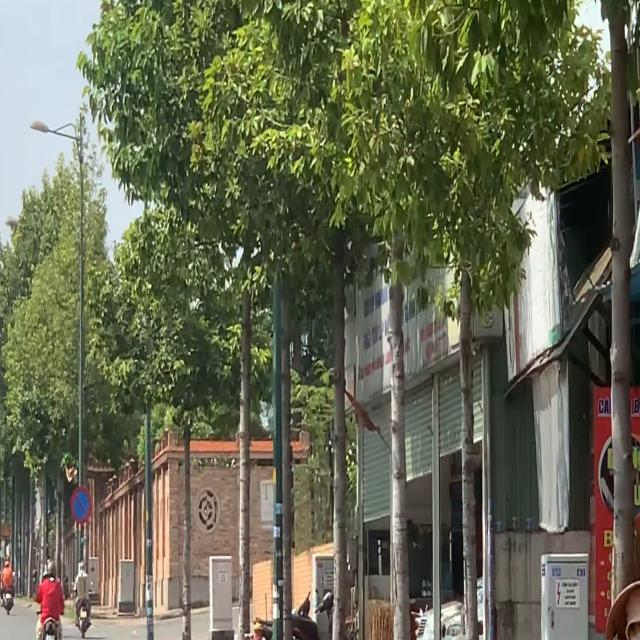Cam do: (68, 481, 97, 528)
